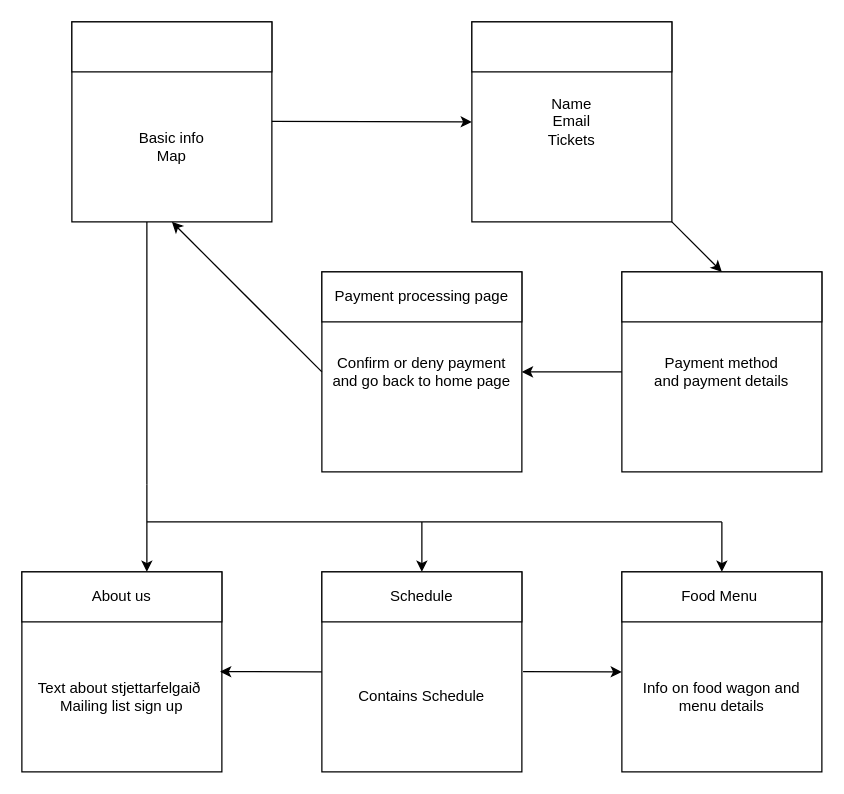
This 844x794 diagram has some shape labels left out. Each missing label, with the centre of its shape:
"Home" belongs at point (171, 46).
"Payment page" belongs at point (721, 296).
"Sign up form" belongs at point (571, 46).
